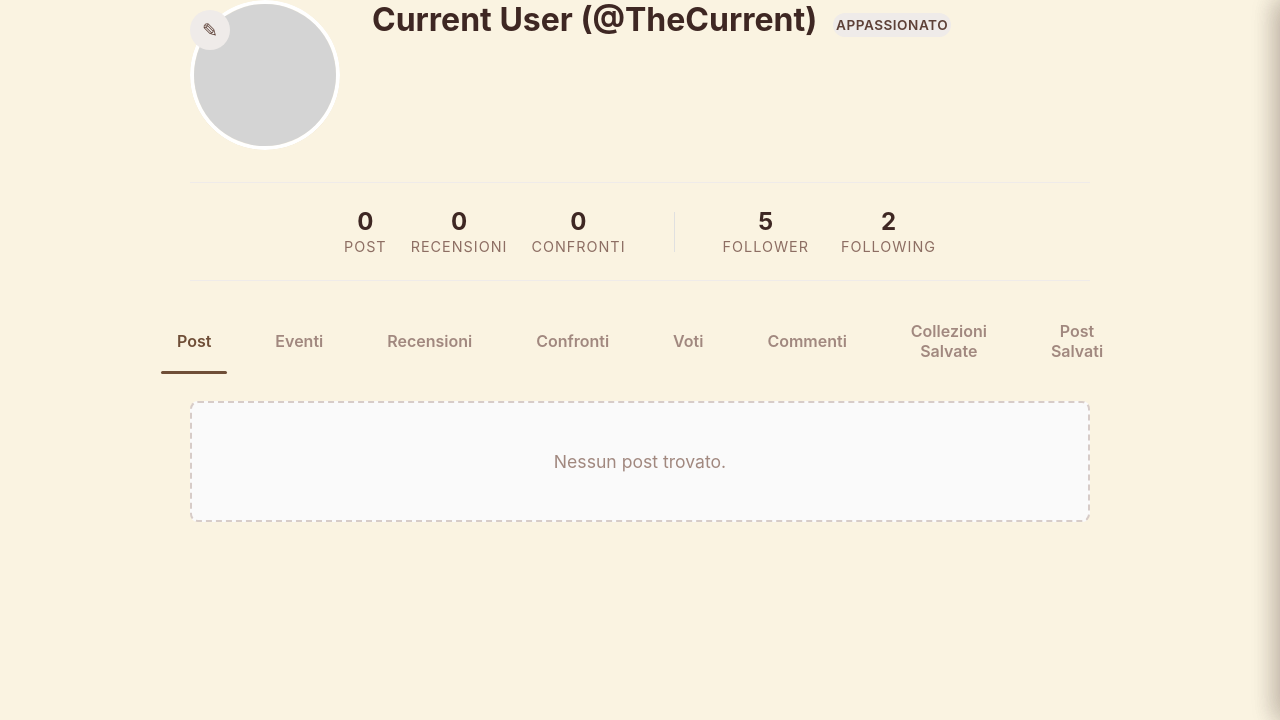
Test: Profile Page › Edit Profile › closes edit drawer when clicking close button
Click the button titled "Modifica Profilo" at (210, 30), box [190,10,230,50]
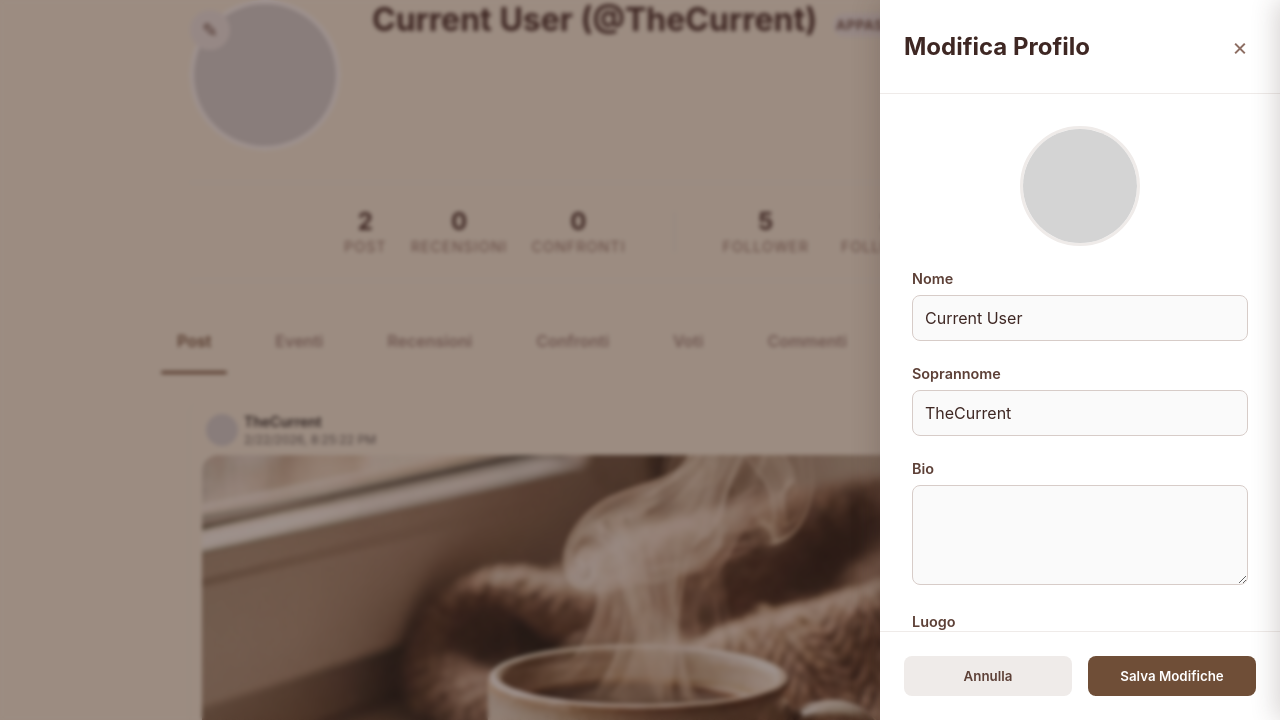
Check: the heading "Modifica Profilo" is shown, box [904,32,1090,61]
Click the button "Annulla" at (988, 676), box [904,656,1072,696]
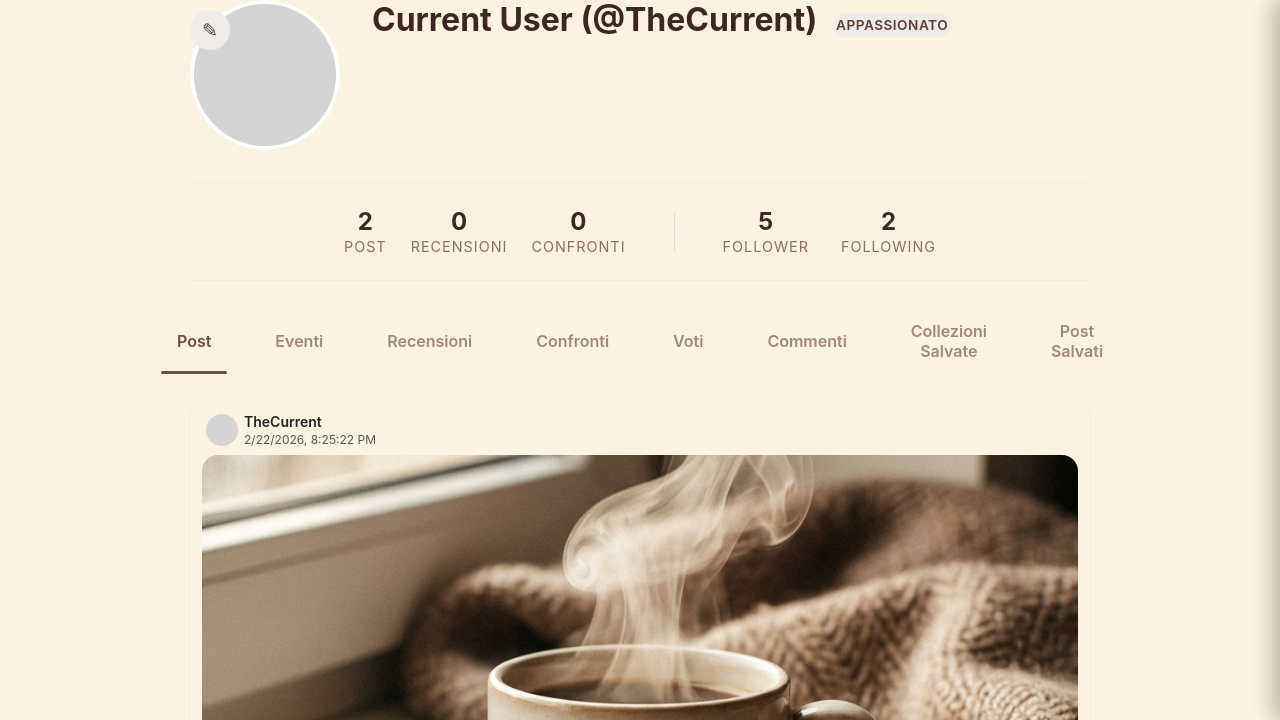
Check: no elements with class "open" are shown
